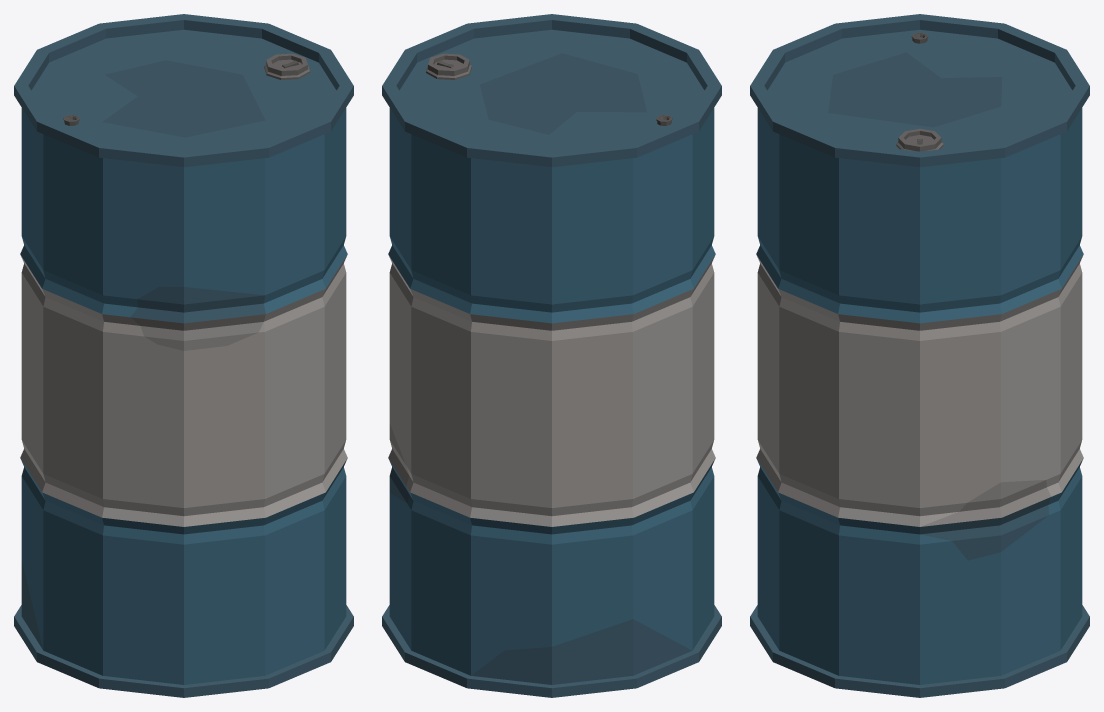
File: SM_Props_Farm_Barrel_Steel.fbx
3 renders of one model, left to right at view 1: azimuth 30°, elevation 25°; view 2: azimuth 150°, elevation 25°; view 3: azimuth 270°, elevation 25°, orthographic.
Parts seen in each view (by area): view 1: SM_Props_Farm_Barrel_Steel; view 2: SM_Props_Farm_Barrel_Steel; view 3: SM_Props_Farm_Barrel_Steel.
Boxes of the visible parts, x1,y1,x2,y2 form: SM_Props_Farm_Barrel_Steel: (14, 14, 353, 697); SM_Props_Farm_Barrel_Steel: (382, 14, 721, 697); SM_Props_Farm_Barrel_Steel: (750, 14, 1089, 697).
Bounding box in the file's own units: 88.65 × 156 × 88.65.
